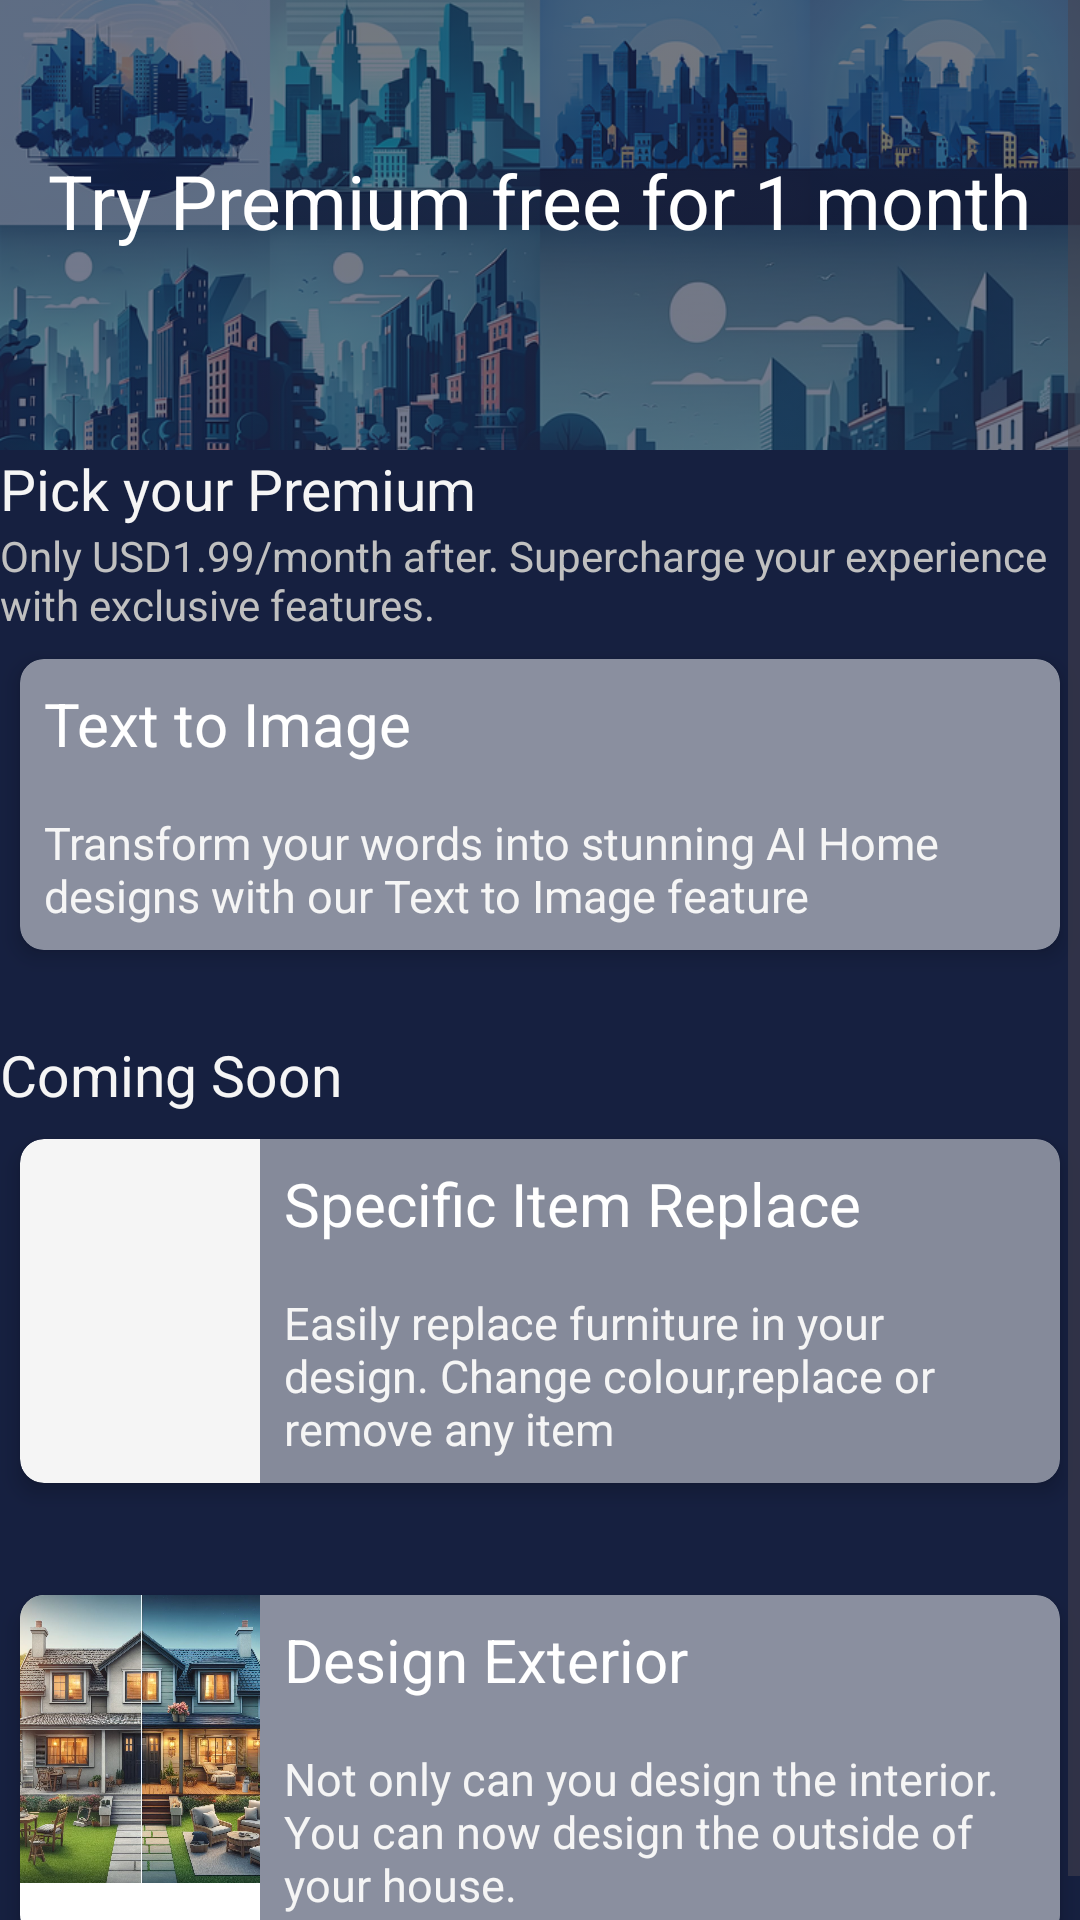

Icons on this 1080*1920 Android screen, each with the point to tap as (x=x, y=y):
remixhouse: (x=140, y=1739)
